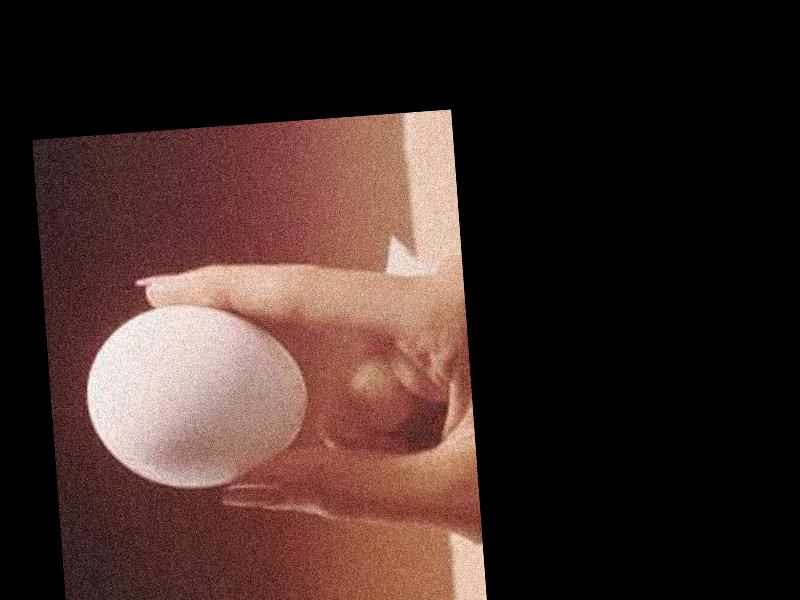Eggs: (82, 296, 316, 498)
